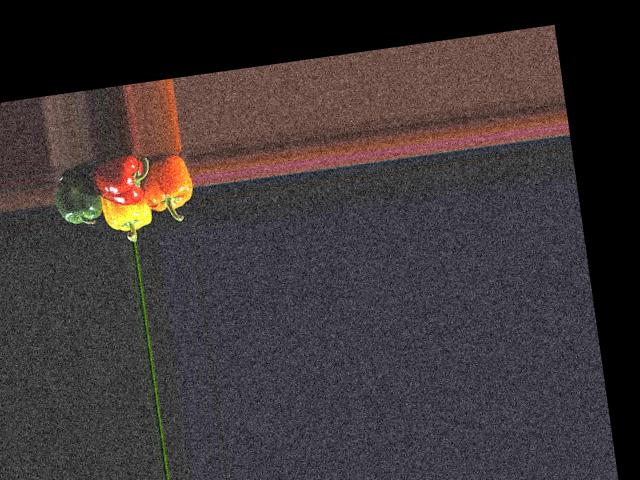bell_pepper: (137, 144, 196, 219)
